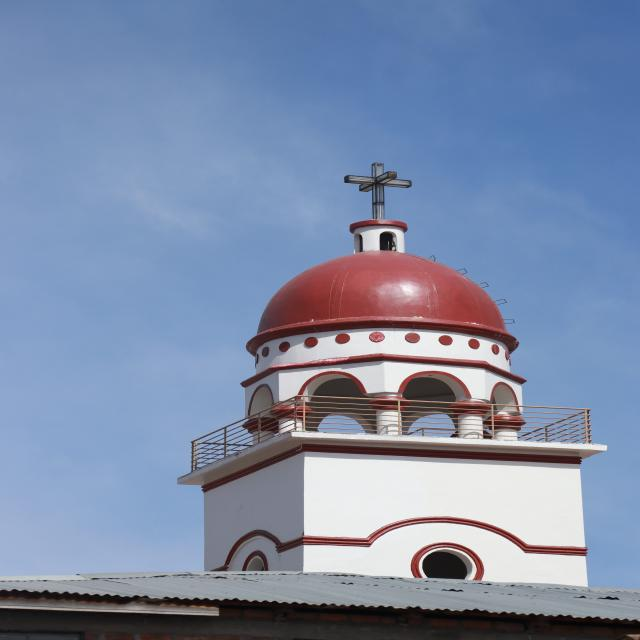CUPULA: (210, 195, 582, 446)
colonial-architecture-: (0, 126, 640, 640)
